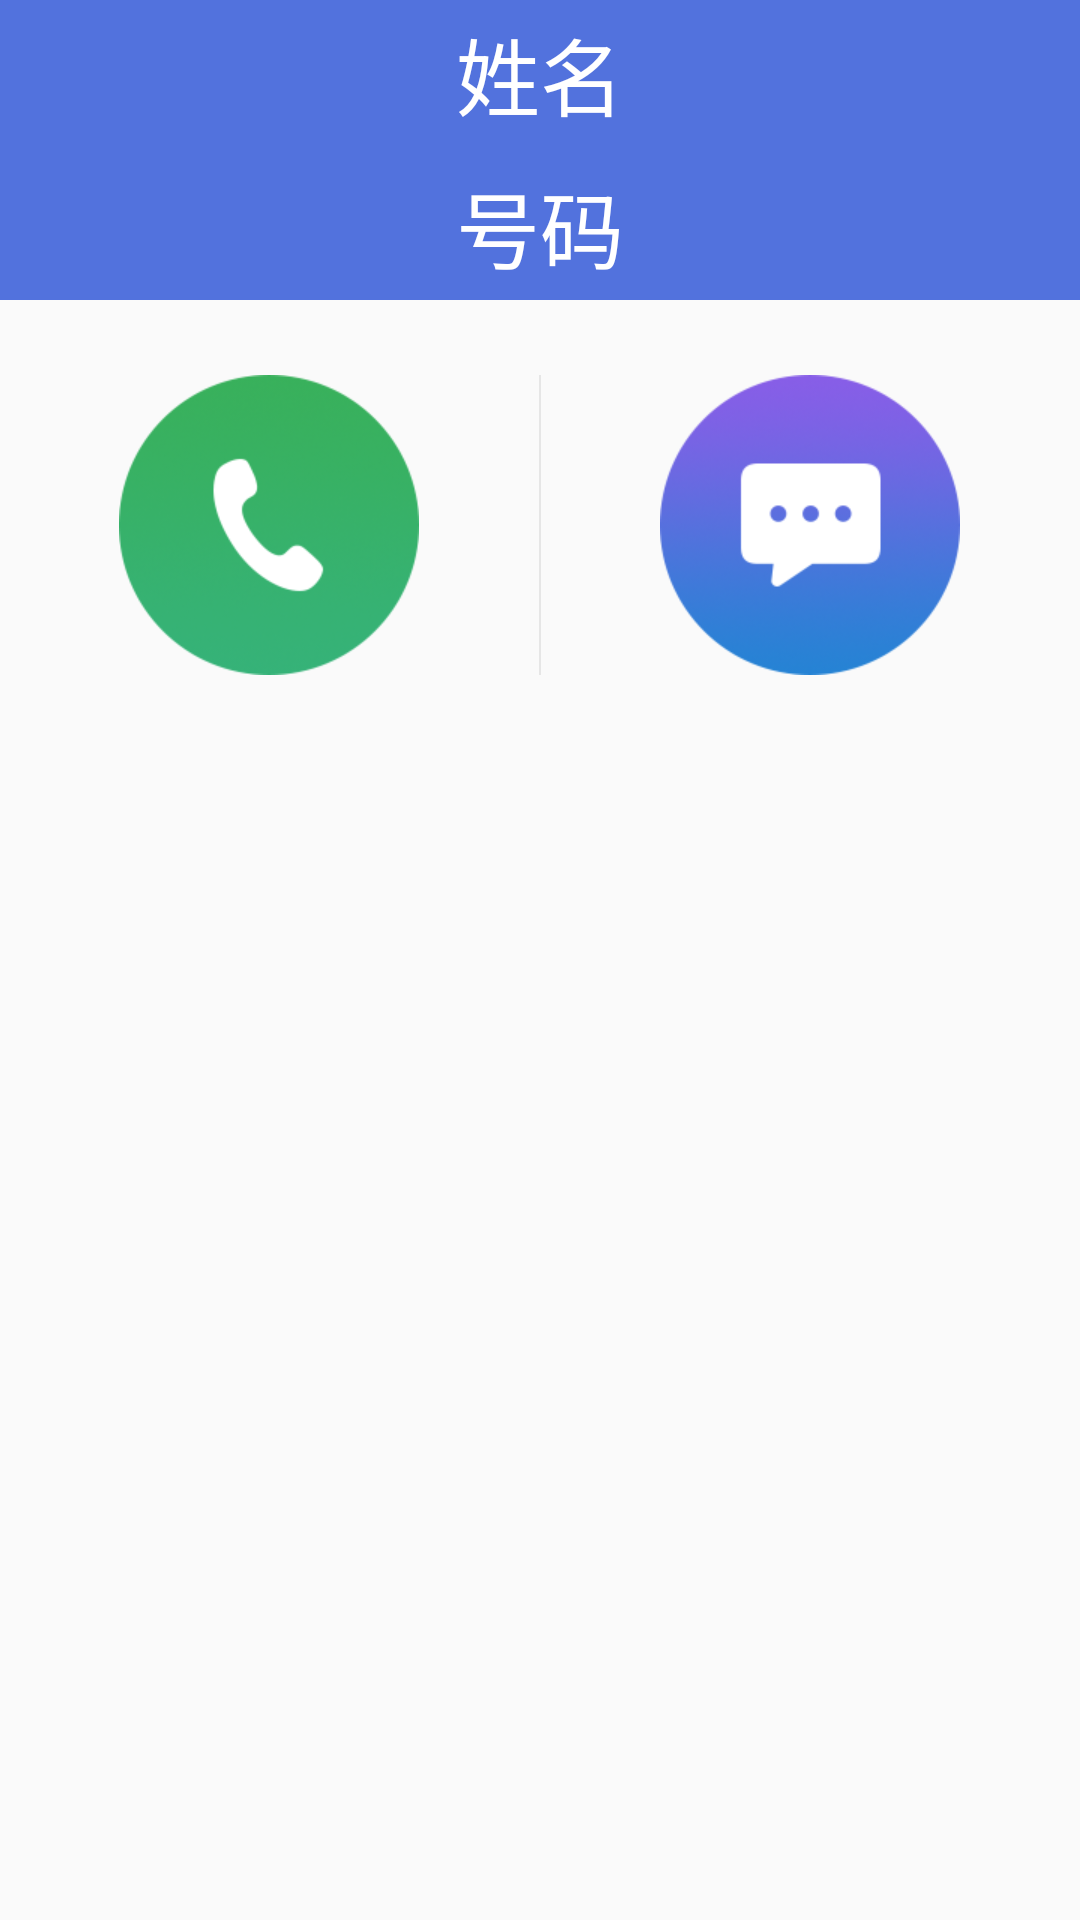

Locate icon controls on the screen. Image size 1080 × 1920, boxes as (x1, y1, x2, y2).
message: (660, 375, 960, 675)
telephone: (119, 375, 419, 675)
